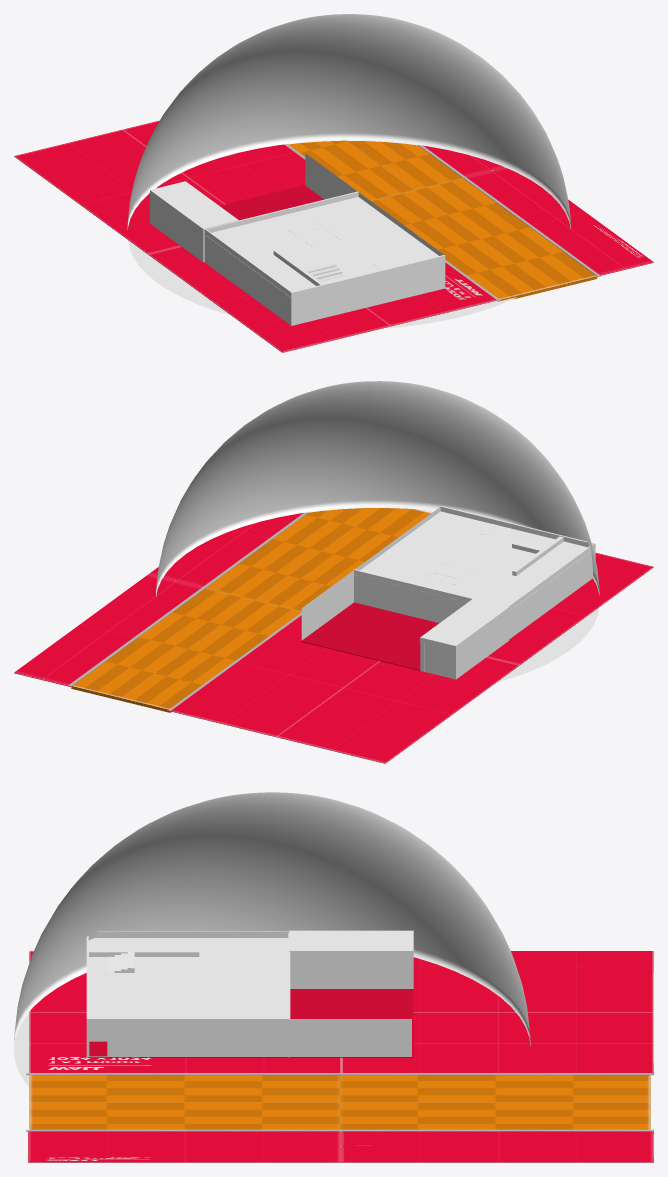
File: level-3.gltf
3 views of the same model, one above another, from view 1: azimuth 30°, elevation 25°; view 2: azimuth 150°, elevation 25°; view 3: azimuth 270°, elevation 25° (orthographic). The views are drawn at different scales.
Parts seen in each view (by area): view 1: CSGCombiner3D2, bounding_sphere, CSGCombiner3D23; view 2: CSGCombiner3D2, bounding_sphere, CSGCombiner3D23; view 3: CSGCombiner3D2, bounding_sphere, CSGCombiner3D23.
Part boxes in pixels (x1,y1,x2,y2): CSGCombiner3D2: [14, 120, 653, 352]; bounding_sphere: [127, 14, 570, 328]; CSGCombiner3D23: [150, 153, 445, 325]; CSGCombiner3D2: [14, 508, 653, 763]; bounding_sphere: [156, 381, 599, 682]; CSGCombiner3D23: [300, 506, 595, 679]; CSGCombiner3D2: [26, 951, 653, 1162]; bounding_sphere: [14, 792, 530, 1086]; CSGCombiner3D23: [86, 930, 413, 1057].
Bounding box in the file's own units: 102 × 54.2 × 124.
12 materials, 8 textured.
